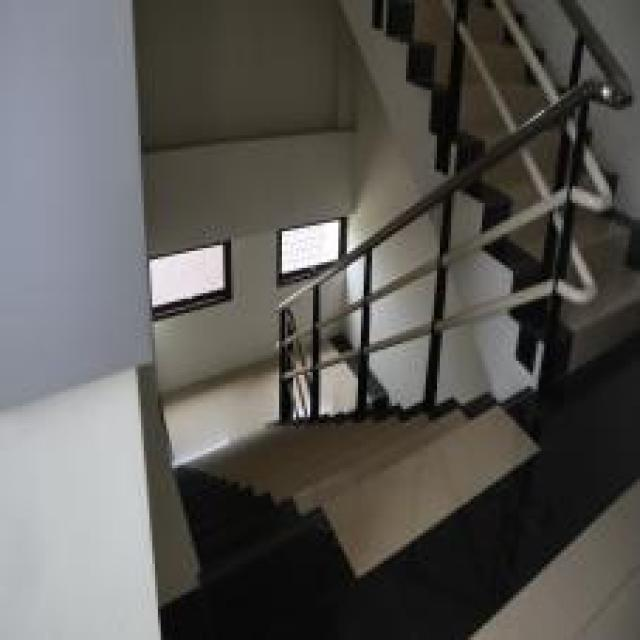downstair: (221, 455, 410, 548)
